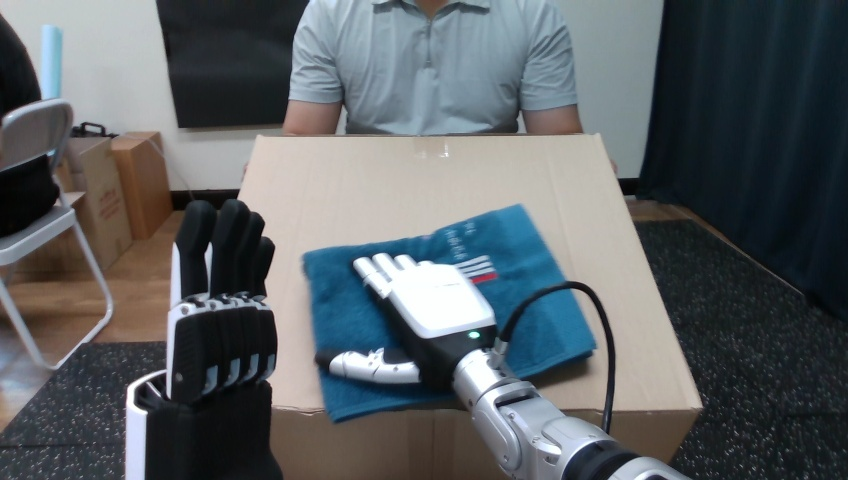left robot hand: (315, 253, 687, 479), (126, 200, 281, 478), (504, 287, 609, 429)
